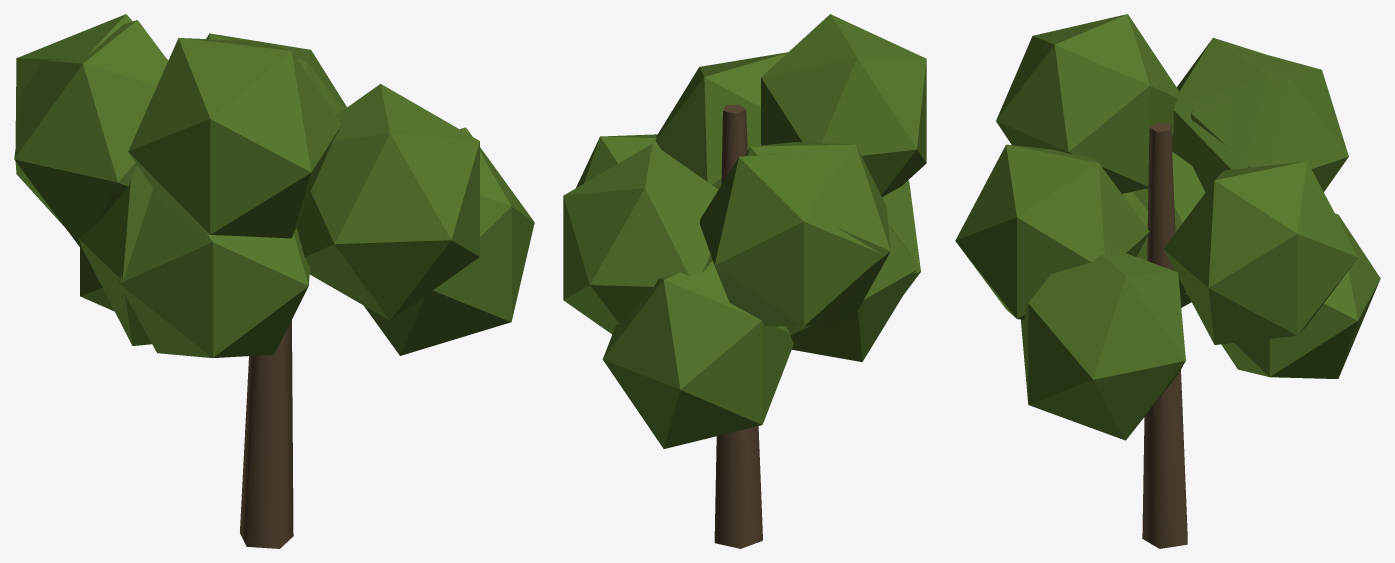
3 renders of one model, left to right at view 1: azimuth 30°, elevation 25°; view 2: azimuth 150°, elevation 25°; view 3: azimuth 270°, elevation 25°, orthographic. The views are drawn at different scales.
Visible parts, largest first — view 1: oak-leaf; view 2: oak-leaf; view 3: oak-leaf.
Boxes of the visible parts, left/top/right/bottom form: oak-leaf: left=14, top=14, right=534, bottom=548; oak-leaf: left=563, top=14, right=926, bottom=548; oak-leaf: left=955, top=14, right=1380, bottom=548.
Size of the model in its own units: 7.47 by 8.88 by 7.17.
